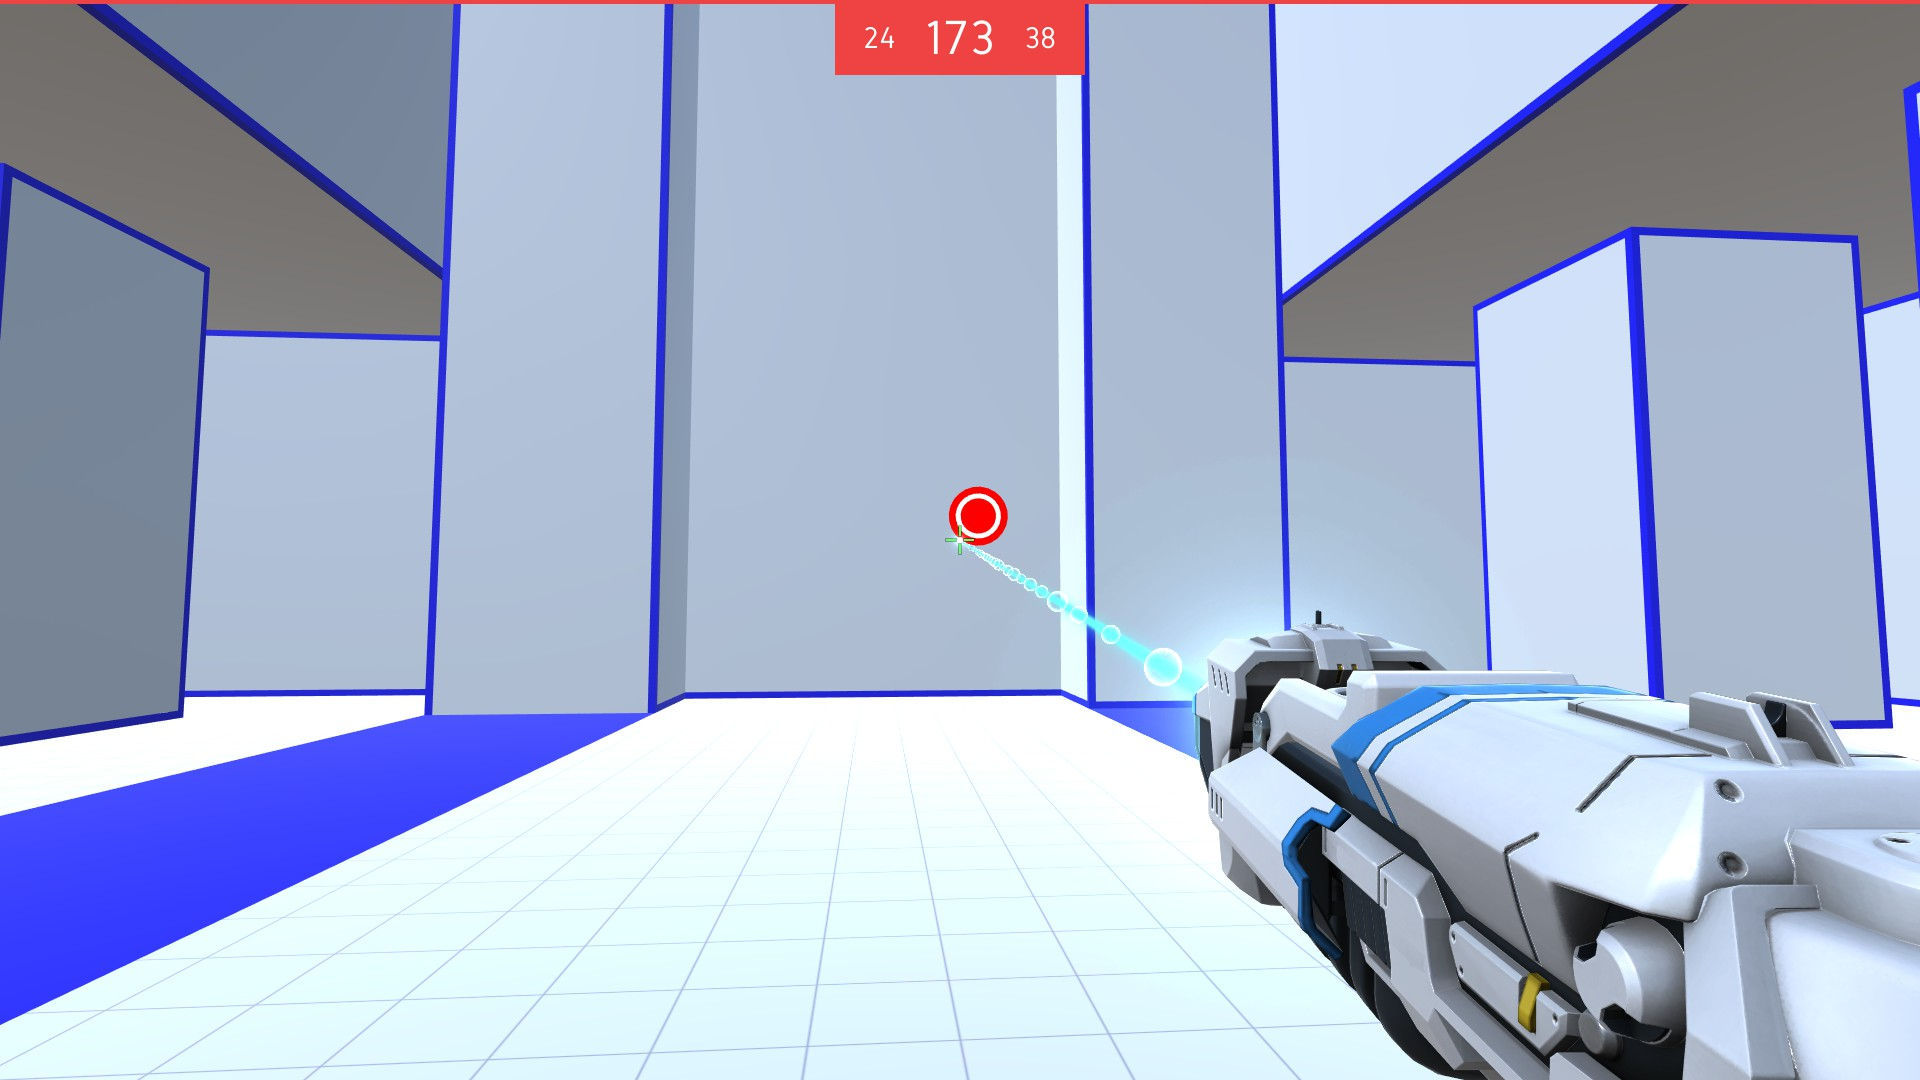target: (945, 485, 1011, 547)
